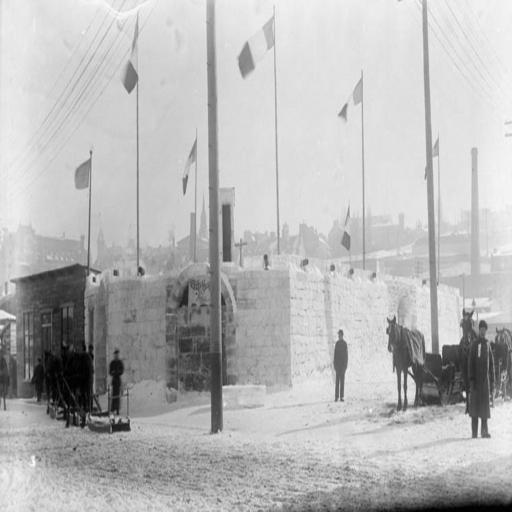Horse: (384, 313, 427, 411), (60, 337, 94, 428), (456, 307, 479, 415), (42, 347, 62, 417), (494, 323, 511, 399)
